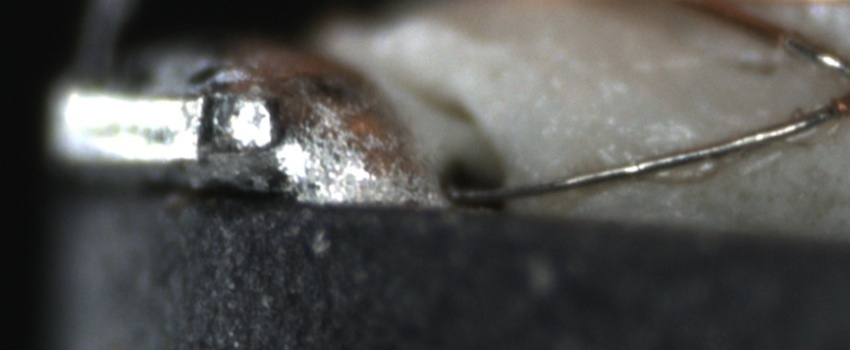TS: (453, 104, 839, 203)
